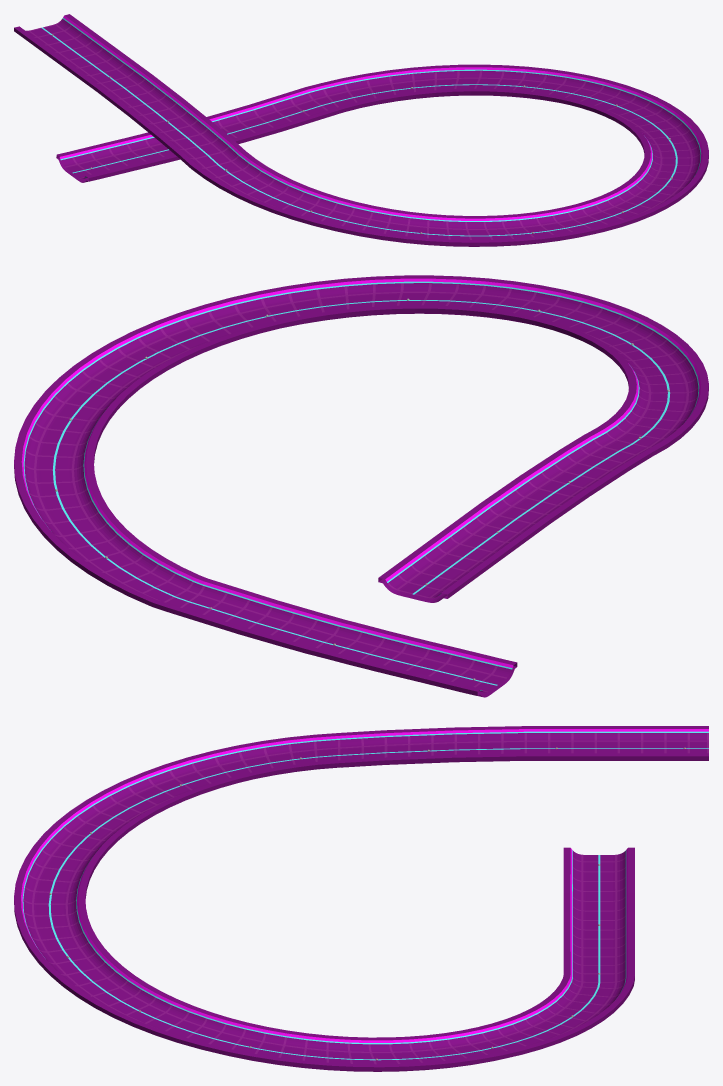
Rendered from blue_block90_S_L_T2.fbx.
3 views of the same model, one above another, from view 1: azimuth 30°, elevation 25°; view 2: azimuth 150°, elevation 25°; view 3: azimuth 270°, elevation 25° (orthographic). The views are drawn at different scales.
Parts seen in each view (by area): view 1: blue_block90_S_L_T2; view 2: blue_block90_S_L_T2; view 3: blue_block90_S_L_T2.
Boxes of the visible parts, x1,y1,x2,y2 form: blue_block90_S_L_T2: (14, 14, 708, 246); blue_block90_S_L_T2: (14, 275, 708, 697); blue_block90_S_L_T2: (14, 726, 708, 1071).
Size of the model in its own units: 9822 by 2233 by 10971.
2 materials, 1 textured.
